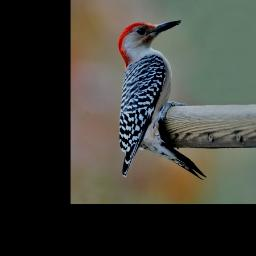Woodpecker: (110, 13, 213, 191)
